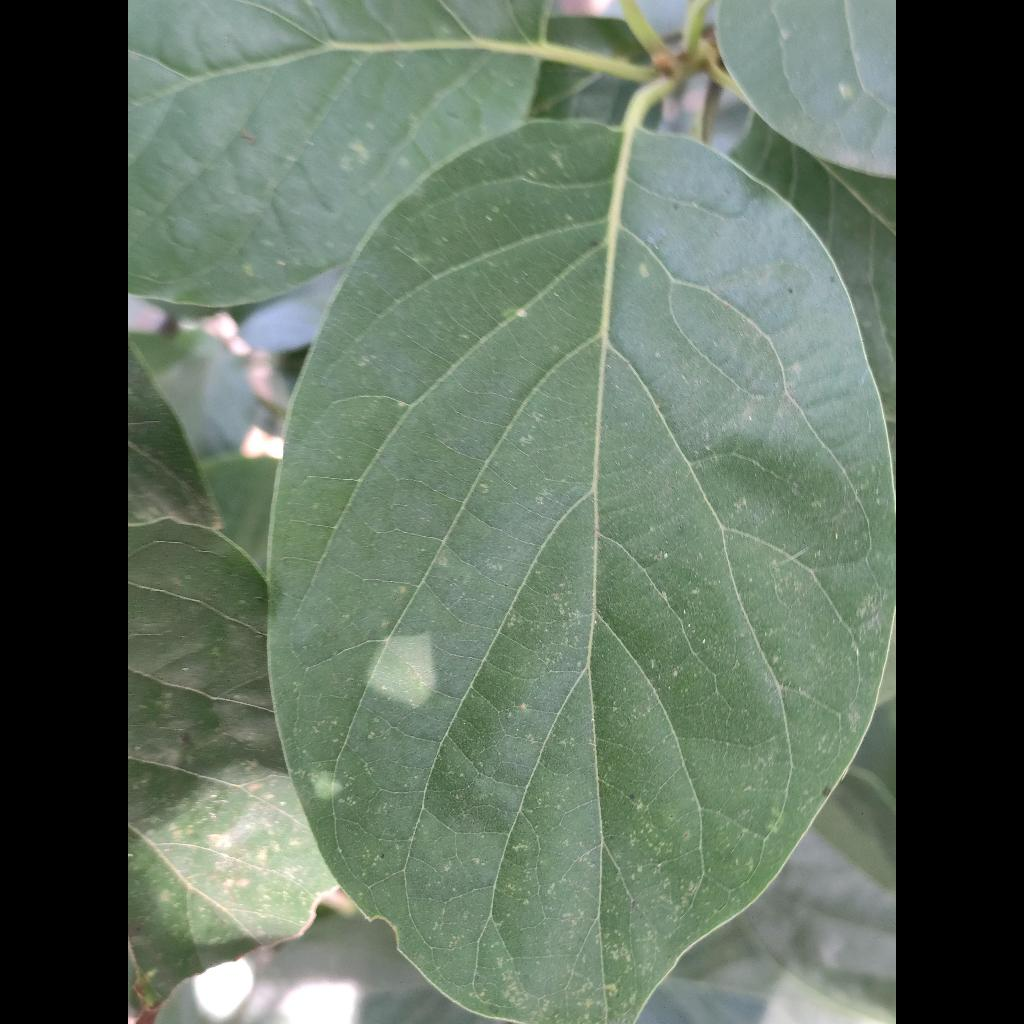Healthy: (270, 101, 896, 1024)
